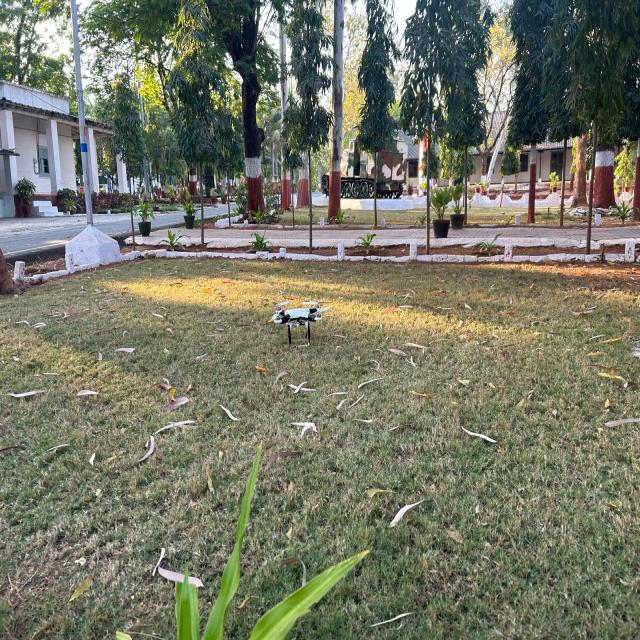drone: (258, 286, 346, 364)
